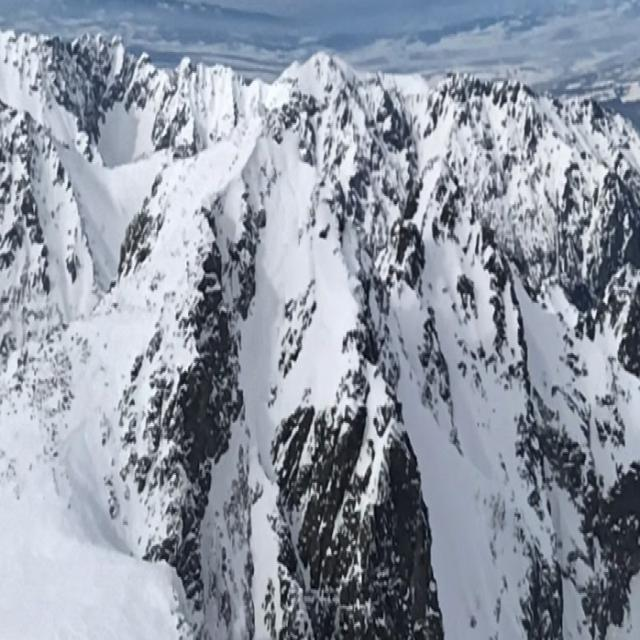Rysy: (238, 8, 454, 164)
